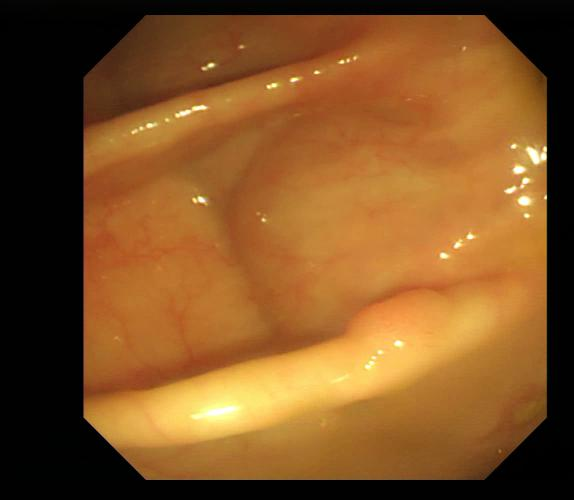polyp: (349, 286, 448, 331)
